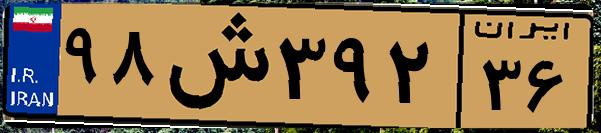2: (385, 28, 445, 110)
3: (270, 28, 330, 110), (475, 38, 525, 113)
6: (525, 38, 570, 115)
8: (110, 28, 158, 98)
9: (330, 28, 385, 110), (57, 26, 110, 100)
ش: (158, 12, 270, 120)
